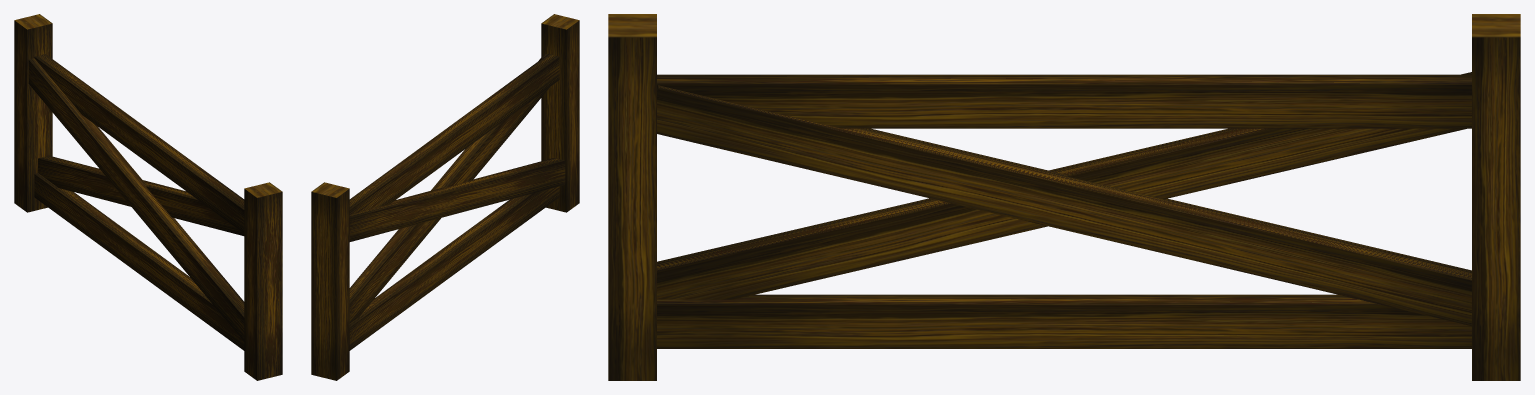
The model's file is Fence.FBX.
3 views of the same model, side by side, from view 1: azimuth 30°, elevation 25°; view 2: azimuth 150°, elevation 25°; view 3: azimuth 270°, elevation 25° (orthographic). The views are drawn at different scales.
Parts seen in each view (by area): view 1: Box12, Box07, Box09, Box08, Box01, Box10; view 2: Box01, Box09, Box08, Box12, Box07, Box10; view 3: Box10, Box08, Box09, Box12, Box01, Box07.
Boxes of the visible parts, x1=… form: Box12: x1=28, y1=58, x2=244, y2=341; Box07: x1=244, y1=182, x2=282, y2=380; Box09: x1=34, y1=54, x2=244, y2=233; Box08: x1=34, y1=173, x2=244, y2=350; Box01: x1=14, y1=14, x2=52, y2=212; Box10: x1=38, y1=155, x2=244, y2=235; Box01: x1=311, y1=182, x2=349, y2=380; Box09: x1=349, y1=54, x2=559, y2=214; Box08: x1=349, y1=186, x2=559, y2=350; Box12: x1=349, y1=158, x2=565, y2=241; Box07: x1=541, y1=14, x2=579, y2=212; Box10: x1=349, y1=53, x2=549, y2=323; Box10: x1=657, y1=85, x2=1471, y2=326; Box08: x1=657, y1=294, x2=1471, y2=348; Box09: x1=657, y1=74, x2=1471, y2=128; Box12: x1=657, y1=72, x2=1471, y2=299; Box01: x1=1472, y1=14, x2=1520, y2=380; Box07: x1=608, y1=14, x2=656, y2=380.
Bounding box in the file's own units: 6.39 × 43.94 × 106.
1 material, 1 textured.
